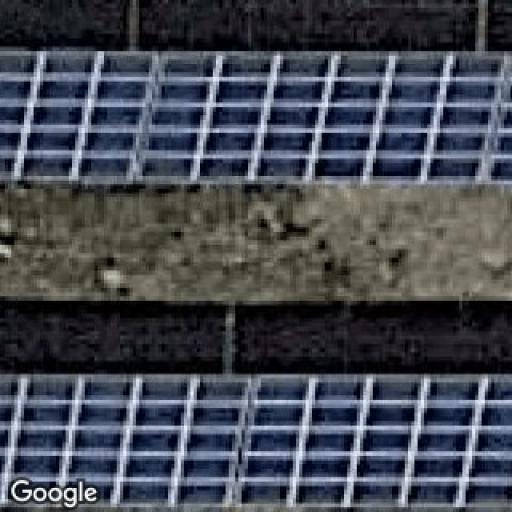solar-panel: (0, 371, 512, 512), (0, 48, 512, 186)
